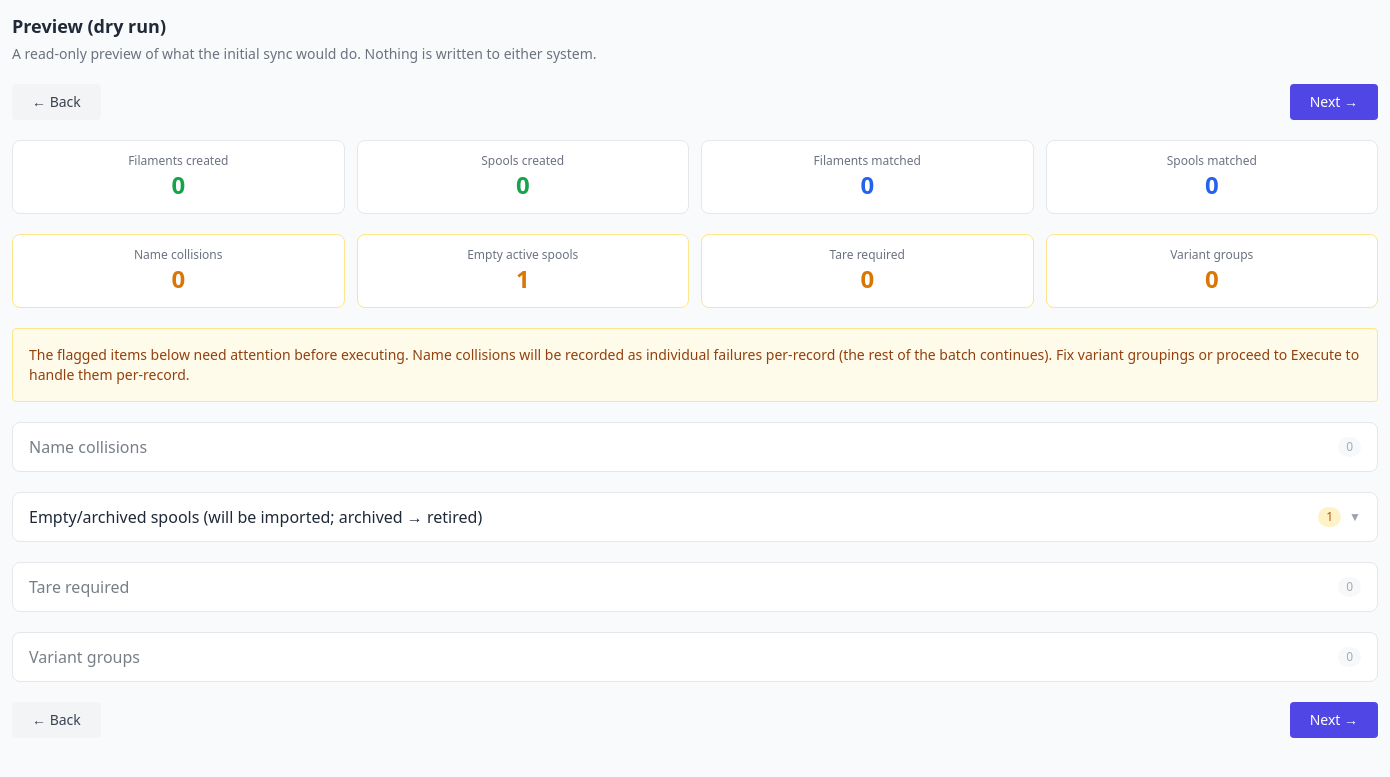
Test: StepNPreview — archived spool display › renders "archived → imports as retired" badge for archived empty entry
Open the empty_active section by clicking on it (it starts collapsed)
Click the button "Empty/archived spools" at [256, 517], box [13,493,1377,541]
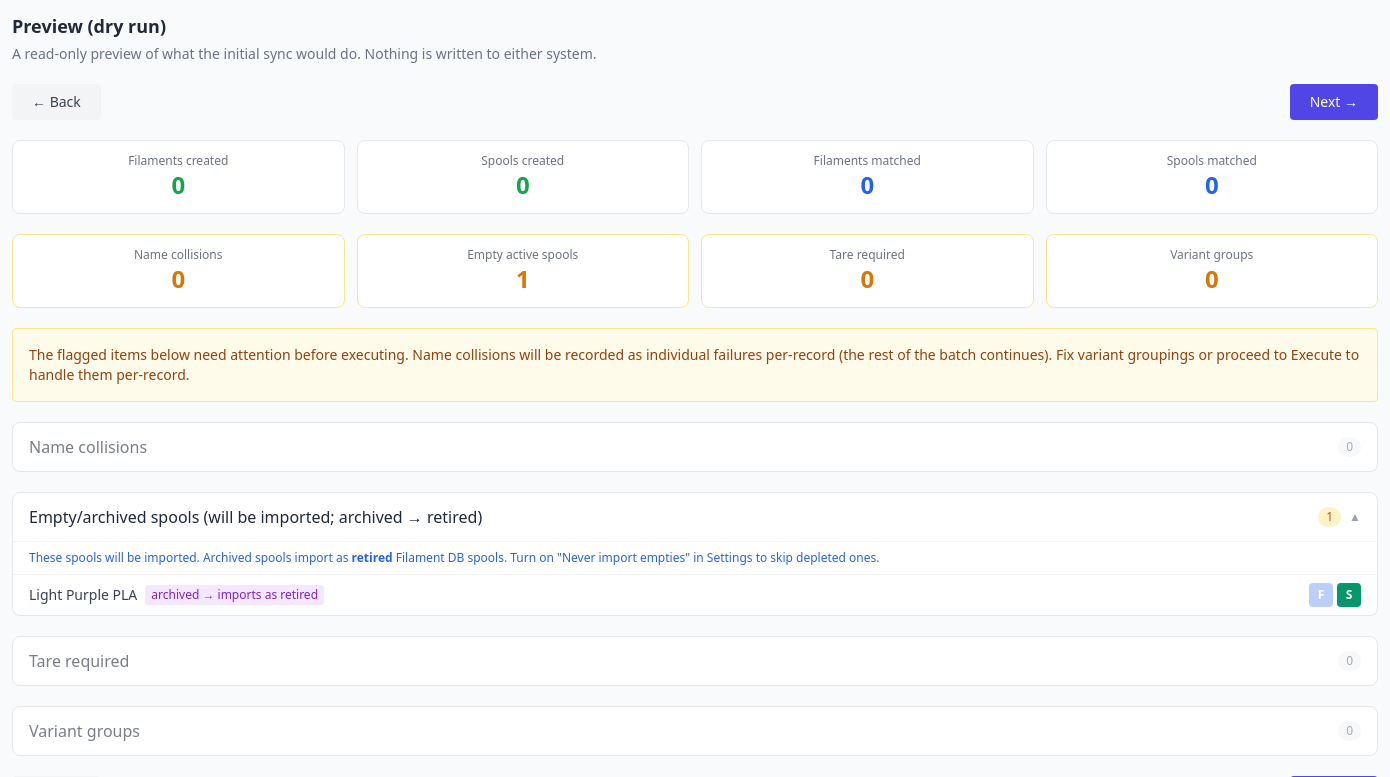
Expected: the text "Light Purple PLA" is shown, [29,585,137,605]
Expected: the text "archived → imports as retired" is shown, [145,585,324,605]
